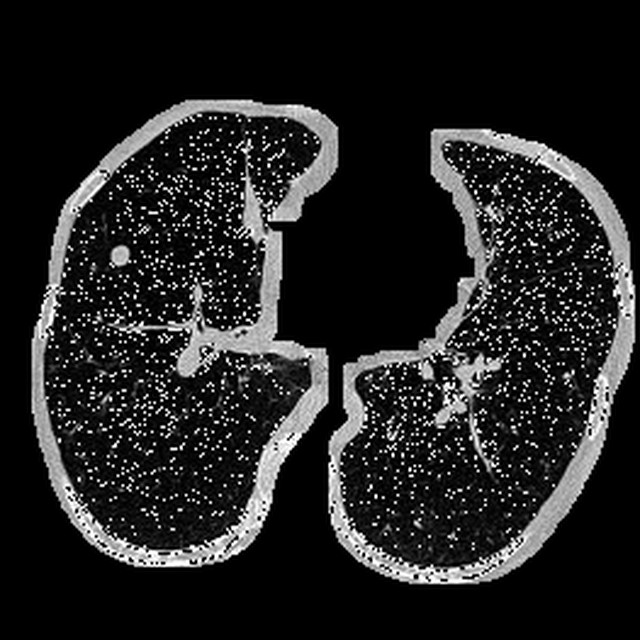PN: (110, 246, 129, 265)
